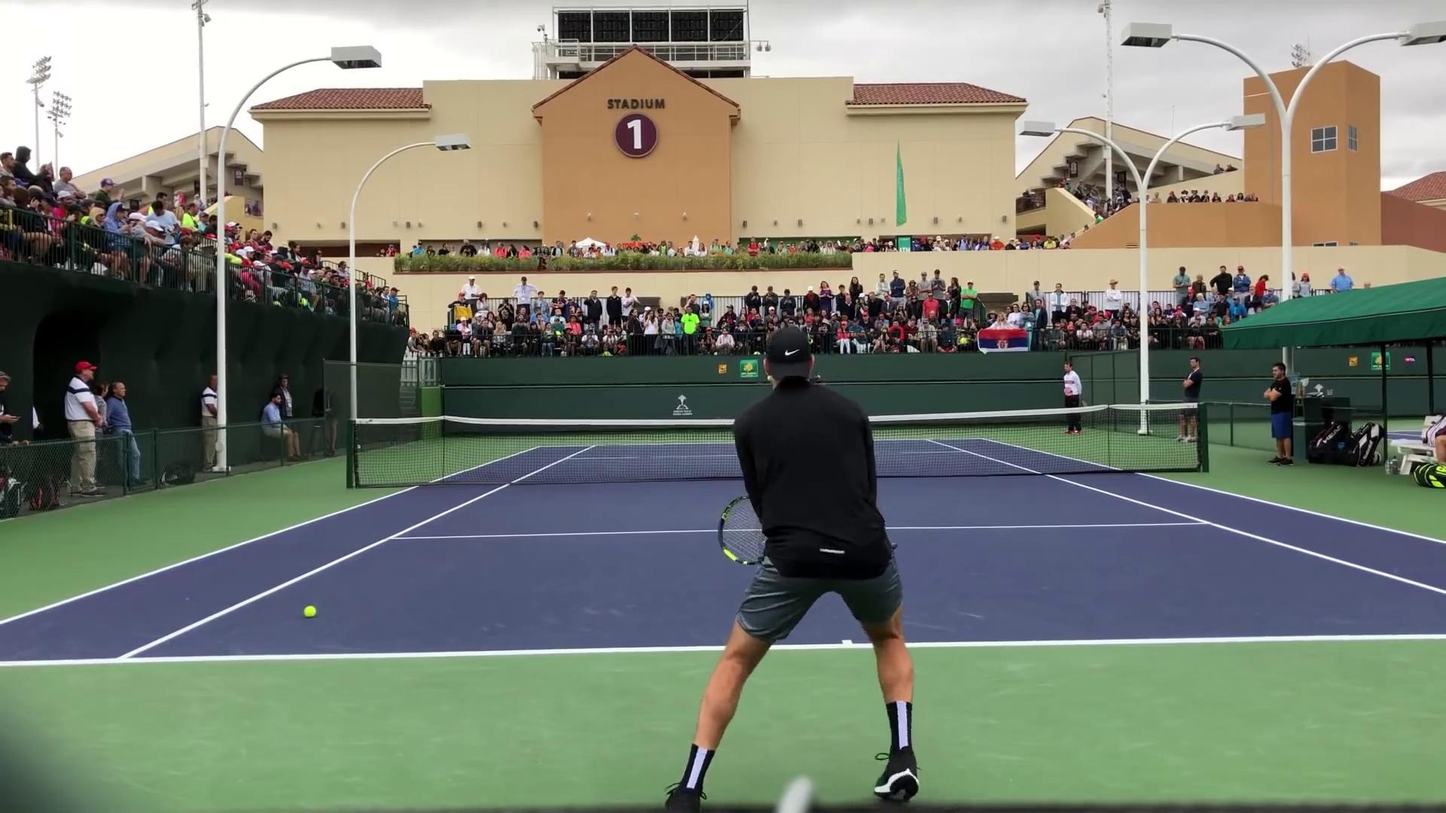ball: (302, 605, 317, 618)
